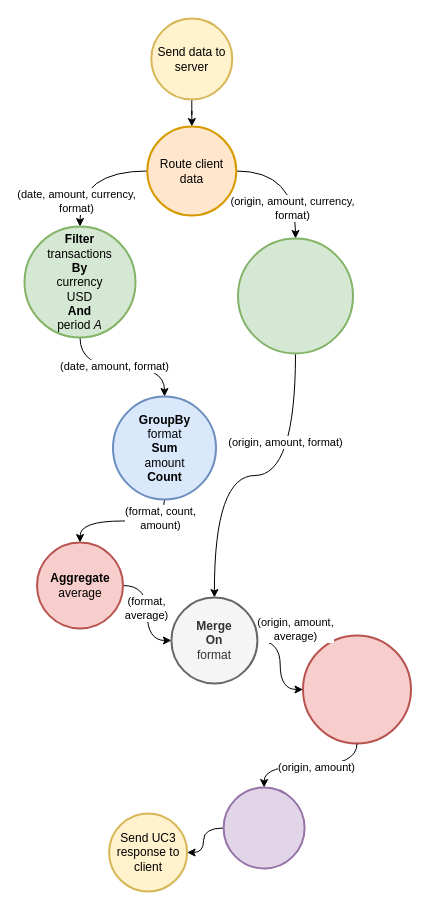
This 429x909 diagram has some shape labels left out. The centre of each missing label's shape, as x and y in pixels:
Filter transactions By currency USD And period B: the point at 295,295
Filter transactions On amount less than hundredth of perdiod B average: the point at 357,689
Join client results: the point at 263,827
